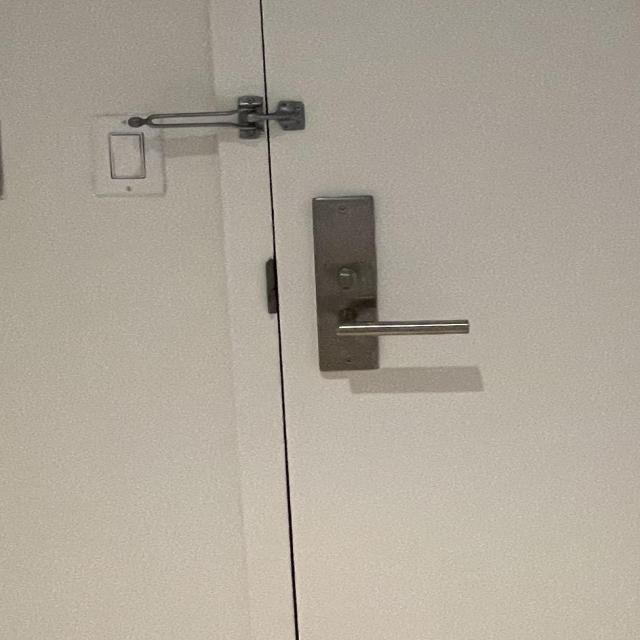door_handle: (314, 301, 484, 346)
